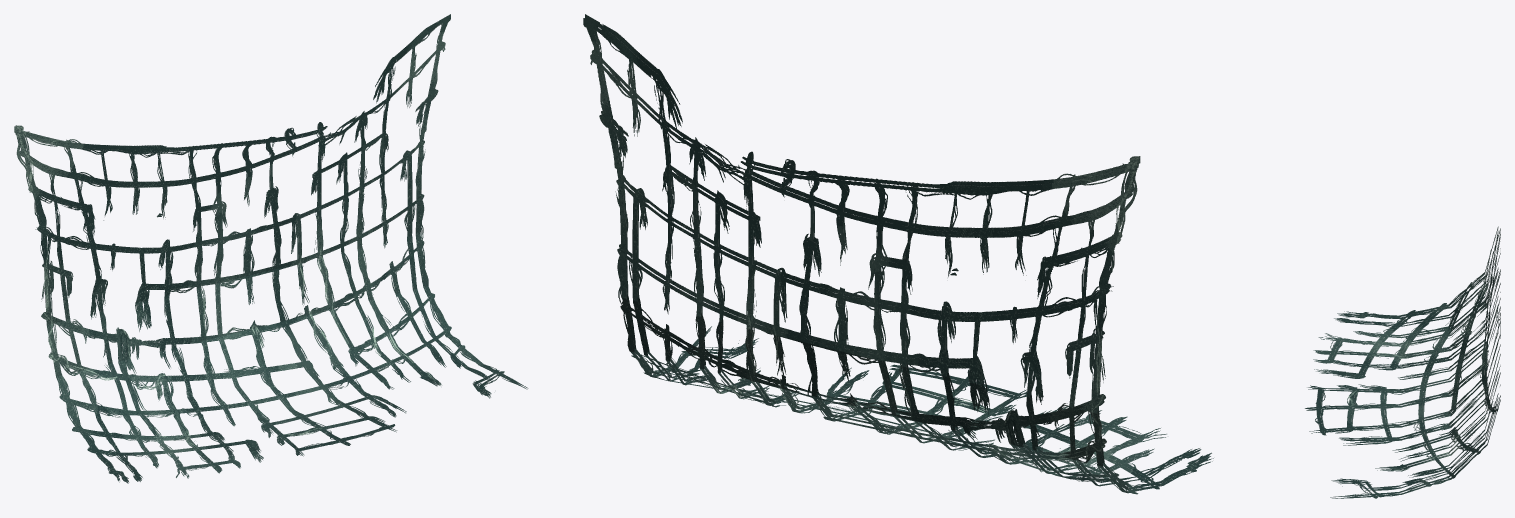
File: Fish_net05.fbx
The picture shows the model from 3 angles, left to right: view 1: azimuth 30°, elevation 25°; view 2: azimuth 150°, elevation 25°; view 3: azimuth 270°, elevation 25°; orthographic projection. The views are drawn at different scales.
Parts seen in each view (by area): view 1: Fish_net05; view 2: Fish_net05; view 3: Fish_net05.
Part boxes in pixels (x1,y1,x2,y2): Fish_net05: (14,14,528,483); Fish_net05: (583,14,1213,494); Fish_net05: (1304,226,1500,498).
Size of the model in its own units: 3.86 by 2.62 by 1.61.
Materials: 1 (1 with a texture image).
